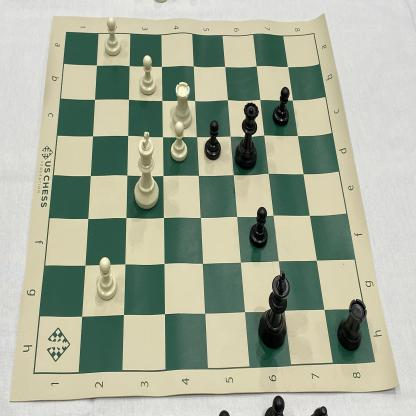black-king: (257, 268, 291, 354)
black-pawn: (248, 204, 270, 251), (204, 118, 223, 162), (273, 84, 291, 128)
black-queen: (234, 97, 260, 173)
black-rook: (335, 297, 368, 355)
white-king: (131, 129, 162, 213)
white-pawn: (94, 256, 118, 304), (167, 119, 189, 165), (136, 52, 158, 97), (101, 15, 123, 59)
white-rook: (170, 79, 195, 132)
